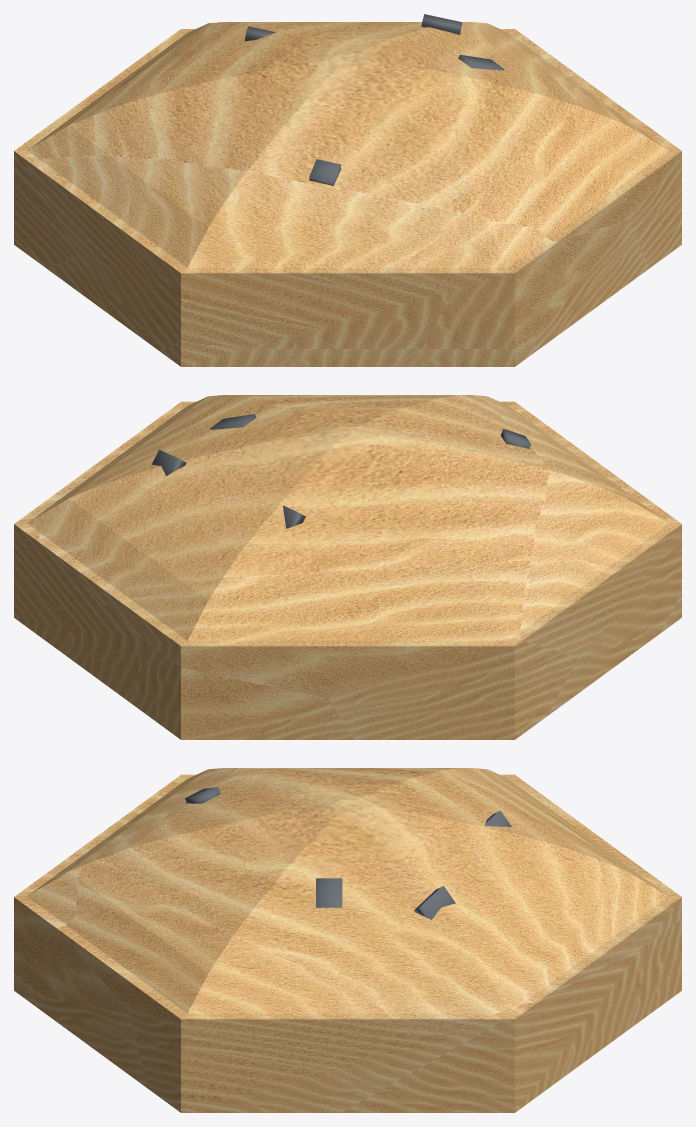
Rendered from SMALL island .glb.
3 views of the same model, one above another, from view 1: azimuth 30°, elevation 25°; view 2: azimuth 150°, elevation 25°; view 3: azimuth 270°, elevation 25° (orthographic).
Visible parts, largest first — view 1: Cylinder.004, Cube.001; view 2: Cylinder.004; view 3: Cylinder.004, Cube, Cube.002.
Boxes of the visible parts, box(x1,y1,x2,y2) form: Cylinder.004: box(14, 22, 681, 366); Cube.001: box(309, 159, 341, 185); Cylinder.004: box(14, 395, 681, 739); Cylinder.004: box(14, 768, 681, 1112); Cube: box(316, 878, 342, 907); Cube.002: box(414, 886, 455, 919).
Size of the model in its own units: 7.86 by 2.77 by 9.07.
2 materials, 1 textured.
